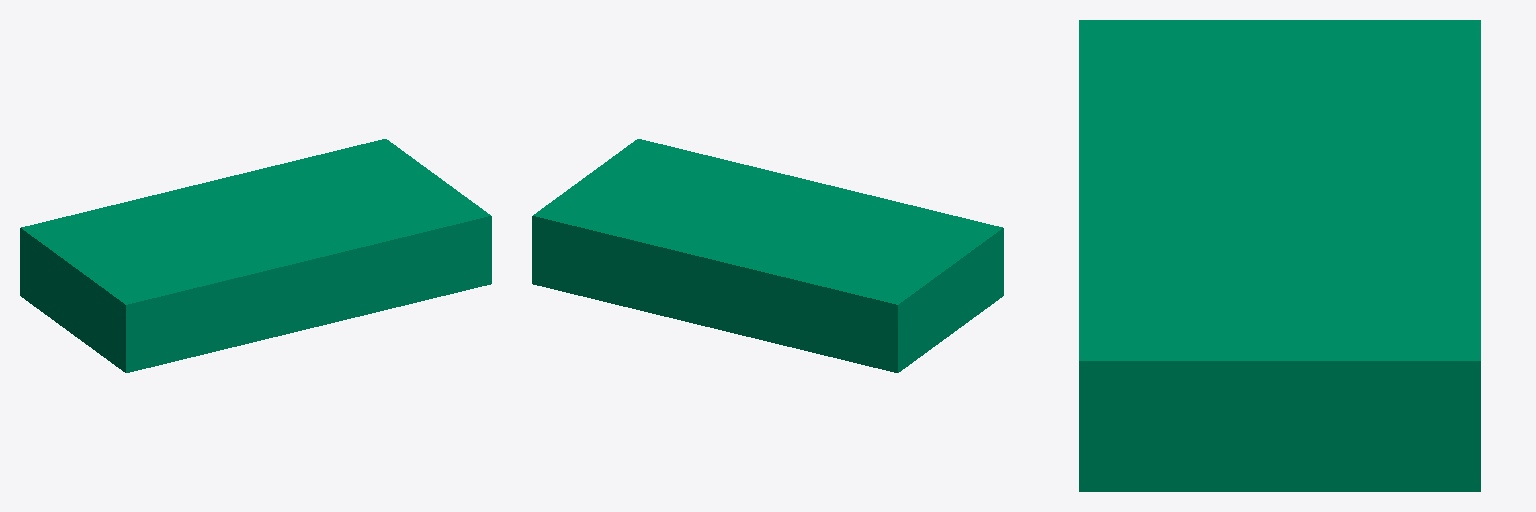
The robot description file, URDF, robot "rectangular_model":
<?xml version="1.0"?>
<robot name="rectangular_model">

  <material name="white">
    <color rgba="1.0 1.0 1.0 1.0"/>
  </material>

  <material name="orange">
    <color rgba="1.0 0.423529411765 0.0392156862745 1.0"/>
  </material>
  
  <link name="base1"/>

  <joint name="joint1" type="prismatic">
    <parent link="base1"/>
    <child link="base2"/>
    <origin xyz="0.0 0.0 0.0" rpy="0.0 0.0 0.0"/>
    <axis xyz="0.0 0.0 1.0"/>
    <!-- <limit effort="1000.0" lower="-4" upper="4" velocity="100"/> -->
    <limit velocity="5"/>
  </joint>

  <link name="base2"/>

   <joint name="joint2" type="revolute">
    <parent link="base2"/>
    <child link="footprint"/>
    <origin xyz="0.0 0.0 0.0" rpy="0.0 0.0 0.0"/>
    <axis xyz="0.0 0.0 1.0"/>
    <limit lower="-3.14" upper="3.14" velocity="0.05"/>
  </joint>

  <link name="footprint">
    <inertial>
      <mass value="12.3188555"/>
      <origin xyz="0.00142 -0.00222 -0.04319" rpy="0 0 0"/>
      <inertia ixx="0.1104557116459" ixy="0.0002742627834" ixz="-0.0007826805716" iyy="0.2925866863396" iyz="-0.0018014327089" izz="0.3259809298915"/>
    </inertial>
    <collision name="footprint_col">
      <origin xyz="0 0 0" rpy="0 0 0"/>
      <geometry>
        <box size="1.2 0.6 0.215"/>
      </geometry>
    </collision>
    <visual name="footprint_vis">
      <origin xyz="0 0 0" rpy="0 0 0"/>
      <geometry>
        <box size="1.2 0.6 0.215"/>
      </geometry>
    </visual>
    <!-- <collision name="body_col">
      <origin xyz="0 0 0" rpy="0 0 0"/>
      <geometry>
        <box size="0.97714 0.324 0.215"/>
      </geometry>
    </collision>
    <visual name="body_vis">
      <origin xyz="0 0 0" rpy="0 0 0"/>
      <geometry>
        <box size="0.97714 0.324 0.215"/>
      </geometry>
    </visual> -->
  </link>
<!-- 
   <joint name="joint3" type="fixed">
    <parent link="footprint"/>
    <child link="head"/>
    <origin xyz="0.0 0.0 0.0" rpy="0.0 0.0 0.0"/>
  </joint>

  <link name="head">
    <visual name="head_vis">
      <origin xyz="0.0 0.0 0.0" rpy="0 0 0"/>
      <geometry>
        <box size="0.1 0.1 0.1"/>
      </geometry>
    </visual>
  </link> -->

  
</robot>

--- What the picture shows (computed from the rendered views, not written in the file) ---
Views: 3 orthographic renders of the robot side by side, from view 1: azimuth 30°, elevation 25°; view 2: azimuth 150°, elevation 25°; view 3: azimuth 270°, elevation 25°.
Robot: rectangular_model — 3 links, 2 joints (1 revolute, 1 prismatic); root link base1; default pose: every joint at zero.
Visible links, largest first — view 1: footprint; view 2: footprint; view 3: footprint.
Boxes of the visible links, x1,y1,x2,y2 form: footprint: [20, 139, 491, 372]; footprint: [532, 139, 1003, 372]; footprint: [1079, 20, 1480, 491].
Bounding box of the posed robot: 1.2 × 0.6 × 0.215 m (x, y, z).
Geometry: primitives only (box / cylinder / sphere), no mesh files.